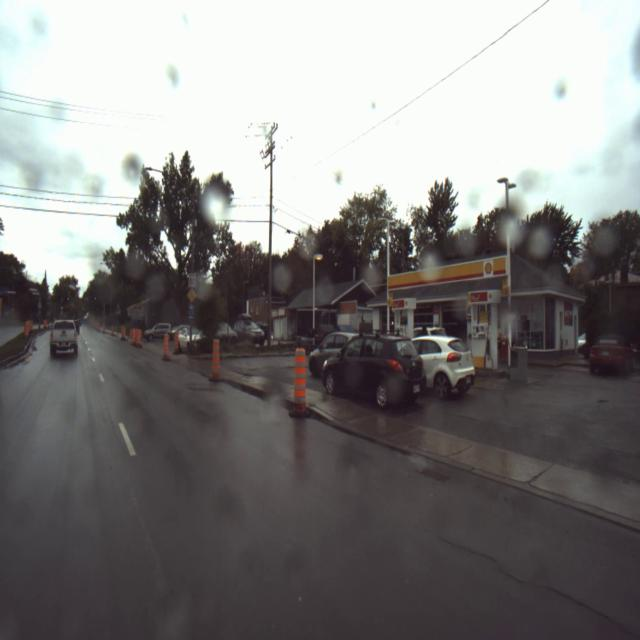car: (322, 334, 427, 410), (412, 334, 476, 401), (309, 329, 349, 380), (589, 336, 627, 378), (50, 318, 78, 360), (237, 312, 264, 340), (144, 321, 171, 344), (177, 326, 201, 347)
